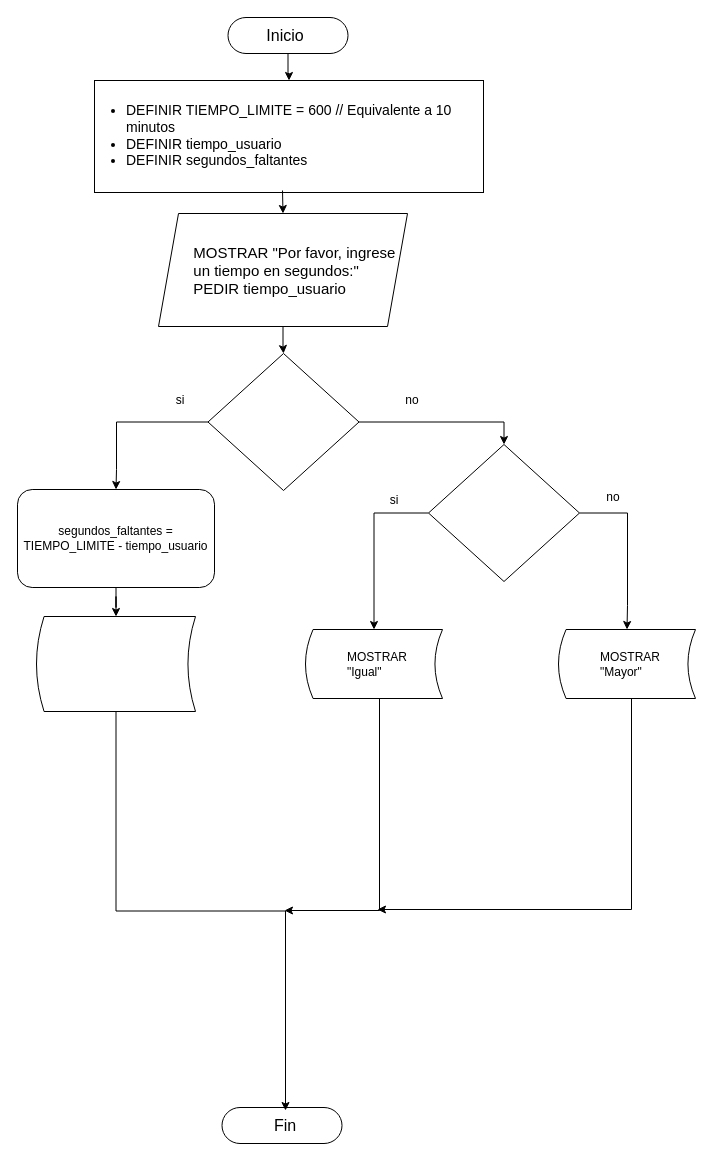
This 713x1161 diagram has some shape labels left out. Here are the shapes that lost their labels. From the top down, the centre of each, then its label:
At (283,421): "tiempo_usuario < TIEMPO_LIMITE".
At (504,513): "tiempo_usuario == TIEMPO_LIMITE".
At (116,664): "MOSTRAR segundos_faltantes".
